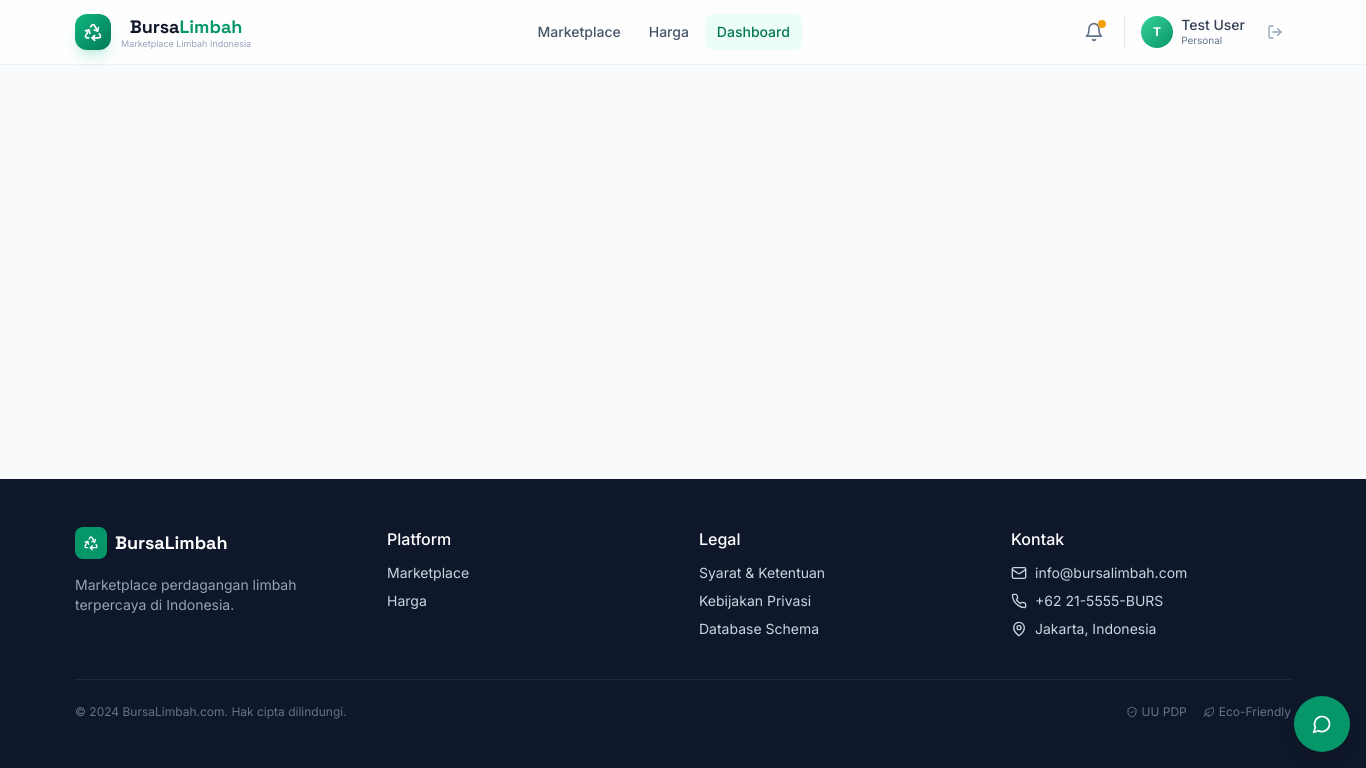
Test: Integration Tests › User Authentication Flow › should logout user
Click logout button
Step 1. Click the button titled "Keluar" → click(1275, 32), box [1259,16,1291,48]
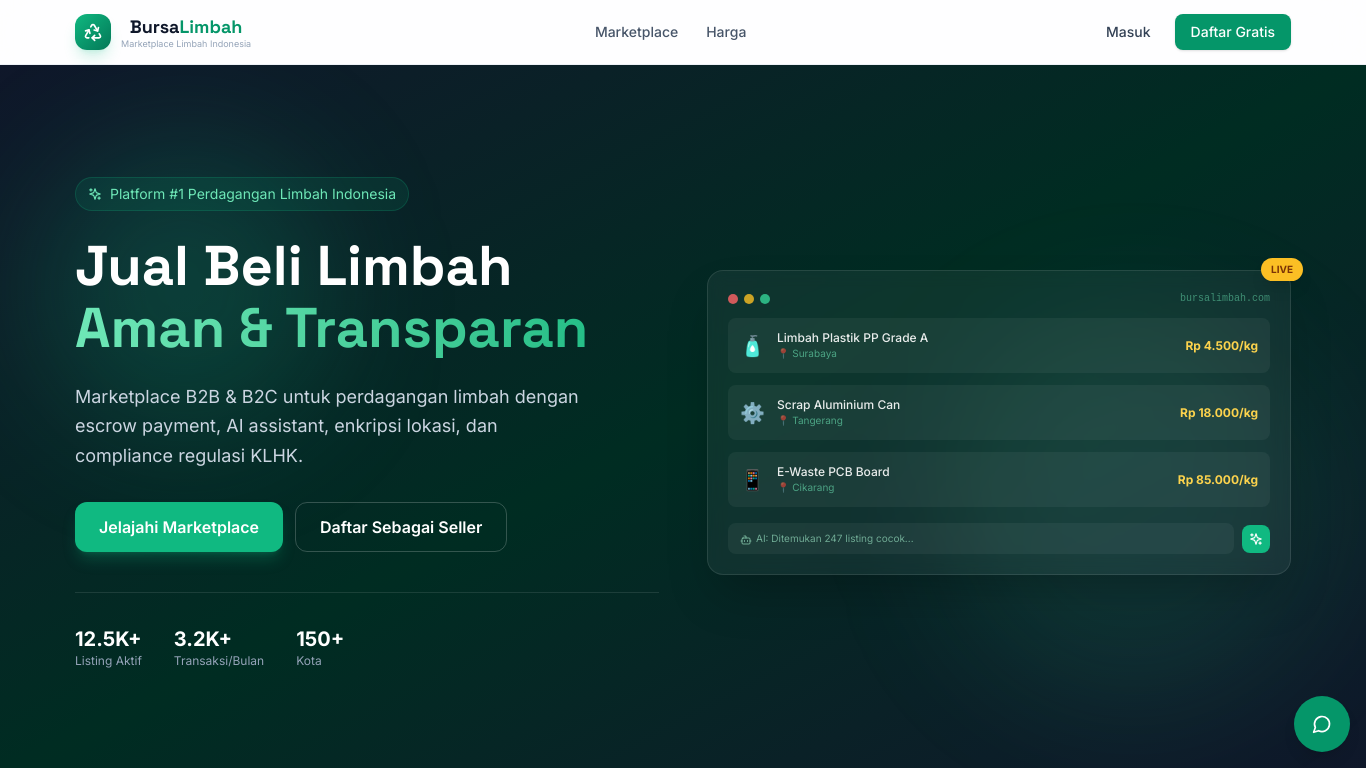
Result: the heading "Jual Beli Limbah Aman & Transparan" is shown at [75,235,659,358]
